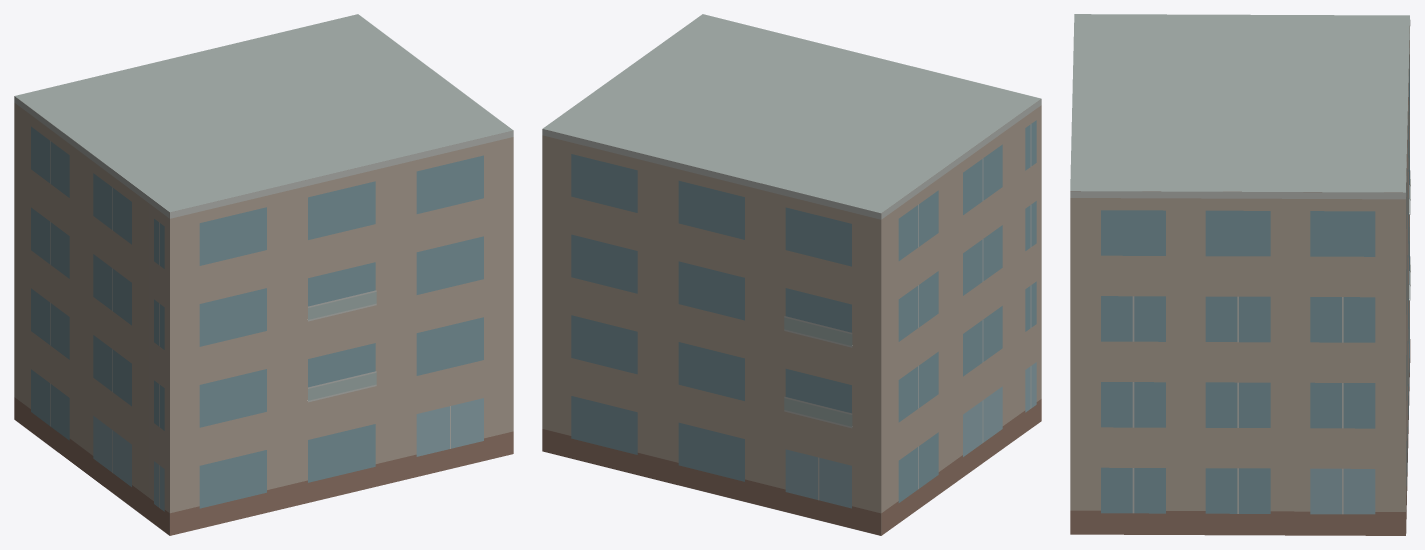
Rendered from residential-dae33464-4970-4f70-98f8-cf3acd4e0bf3.glb.
3 renders of one model, left to right at view 1: azimuth 30°, elevation 25°; view 2: azimuth 150°, elevation 25°; view 3: azimuth 270°, elevation 25°, orthographic. The views are drawn at different scales.
Visible parts, largest first — view 1: residential-dae33464-4970-4f70-98f8-cf3acd4e0bf3.tmp; view 2: residential-dae33464-4970-4f70-98f8-cf3acd4e0bf3.tmp; view 3: residential-dae33464-4970-4f70-98f8-cf3acd4e0bf3.tmp.
Boxes of the visible parts, bbox=[...] form: residential-dae33464-4970-4f70-98f8-cf3acd4e0bf3.tmp: bbox=[14, 14, 513, 535]; residential-dae33464-4970-4f70-98f8-cf3acd4e0bf3.tmp: bbox=[542, 14, 1041, 535]; residential-dae33464-4970-4f70-98f8-cf3acd4e0bf3.tmp: bbox=[1070, 14, 1410, 535].
Size of the model in its own units: 13.61 by 12.2 by 10.98.
